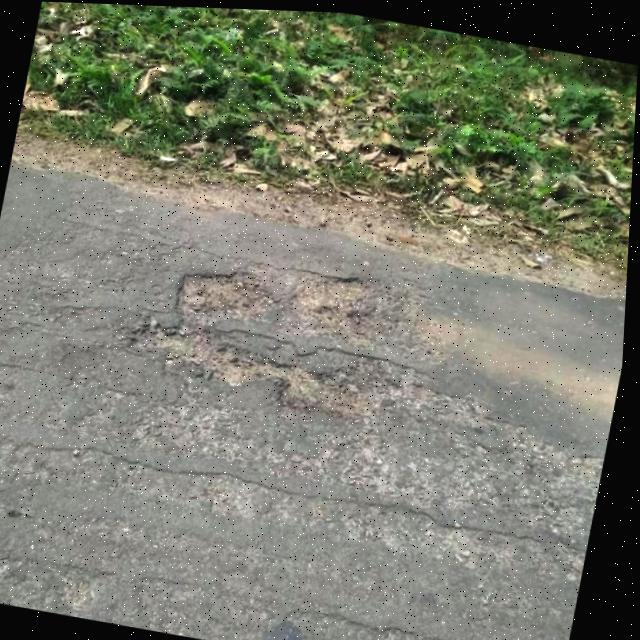Pothole: (118, 232, 428, 431)
